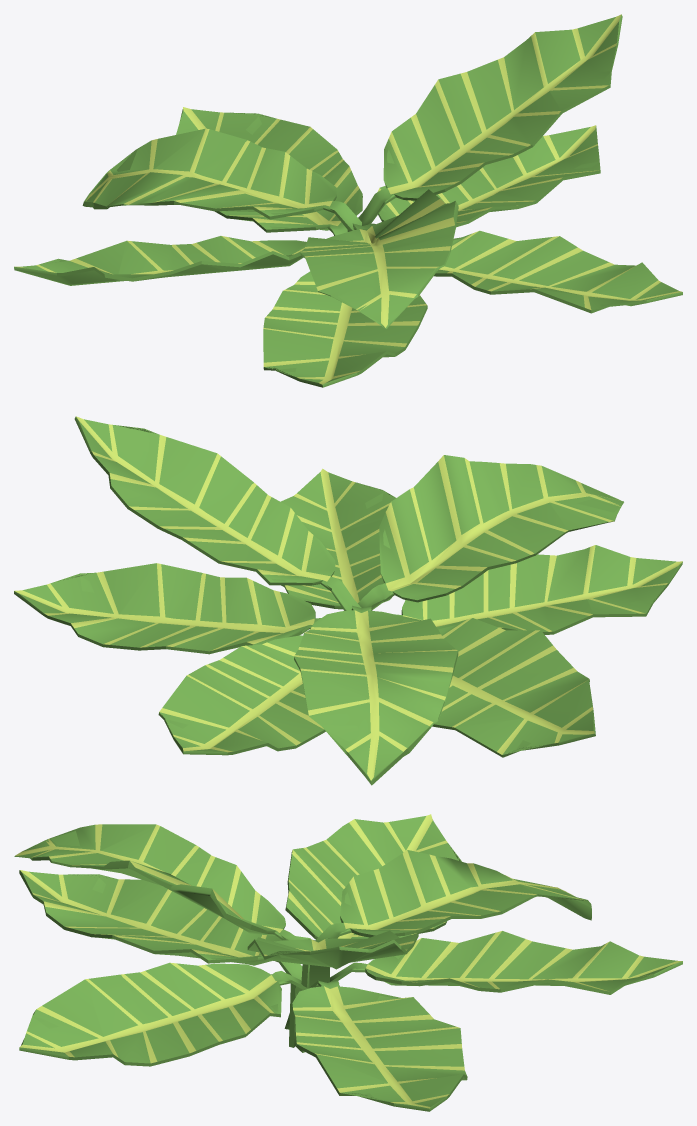
The model's file is ormbunke.fbx.
The picture shows the model from 3 angles, top to bottom: view 1: azimuth 30°, elevation 25°; view 2: azimuth 150°, elevation 25°; view 3: azimuth 270°, elevation 25°; orthographic projection. The views are drawn at different scales.
Visible parts, largest first — view 1: OrmBunke; view 2: OrmBunke; view 3: OrmBunke.
Boxes of the visible parts, x1,y1,x2,y2 form: OrmBunke: [14, 14, 682, 387]; OrmBunke: [14, 416, 682, 785]; OrmBunke: [14, 814, 682, 1111].
Bounding box in the file's own units: 98.88 × 37.27 × 94.8.
